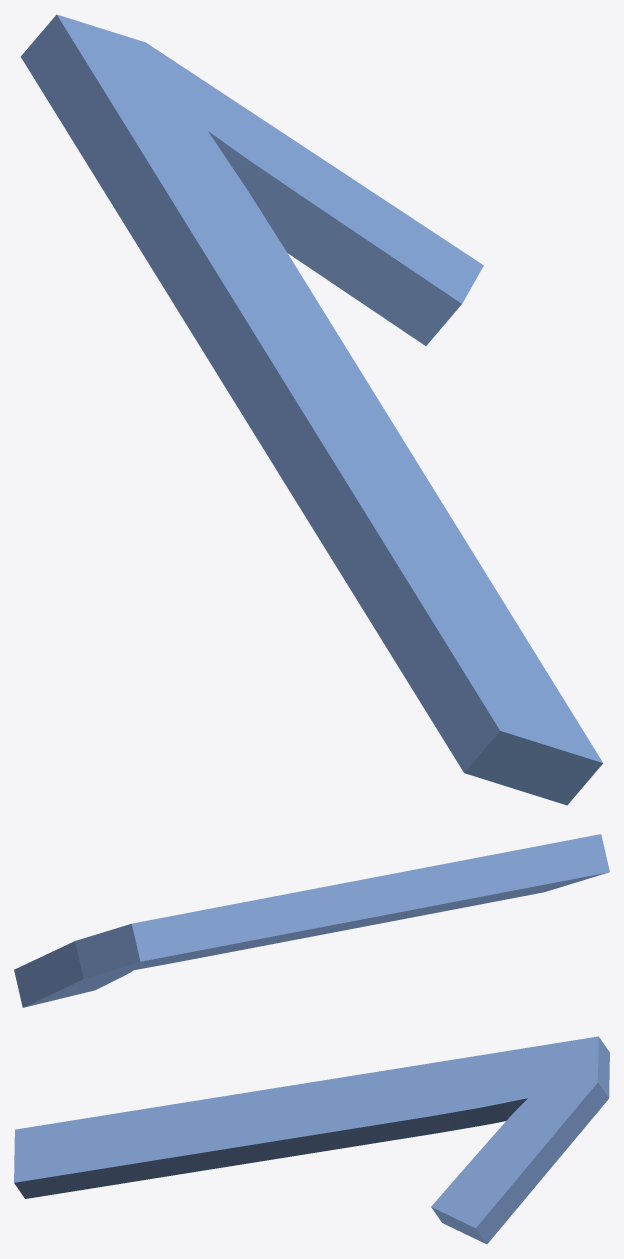
Rendered from New_Number_1.gltf.
The picture shows the model from 3 angles, top to bottom: view 1: azimuth 30°, elevation 25°; view 2: azimuth 150°, elevation 25°; view 3: azimuth 270°, elevation 25°; orthographic projection. The views are drawn at different scales.
Parts seen in each view (by area): view 1: Part 613; view 2: Part 613; view 3: Part 613.
Boxes of the visible parts, left/top/right/bottom form: Part 613: left=20, top=14, right=603, bottom=805; Part 613: left=14, top=834, right=609, bottom=1007; Part 613: left=14, top=1036, right=609, bottom=1244.
Size of the model in its own units: 0.00227 by 0.00164 by 0.00498.
